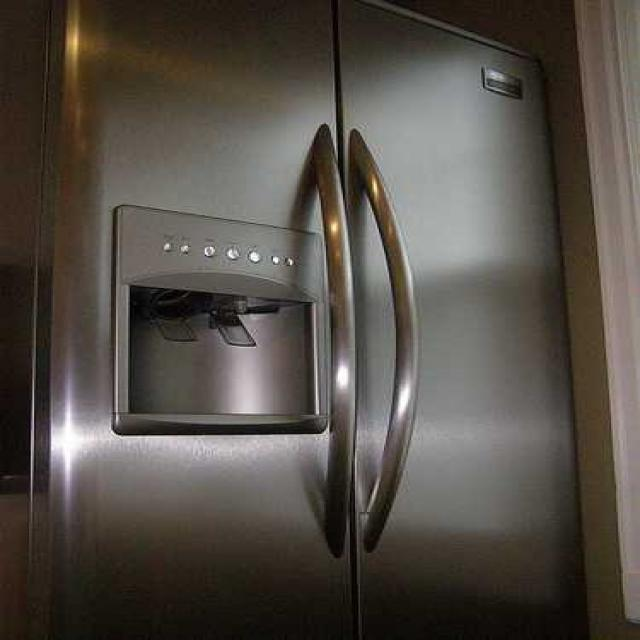refrigerator: (55, 0, 599, 625)
